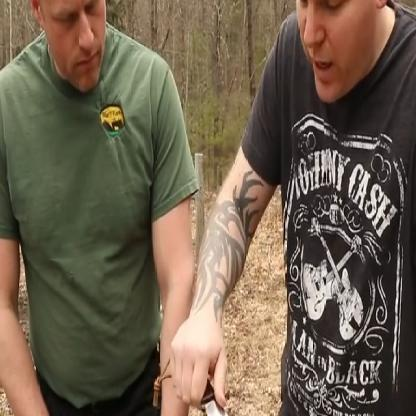knife: (168, 330, 268, 415)
